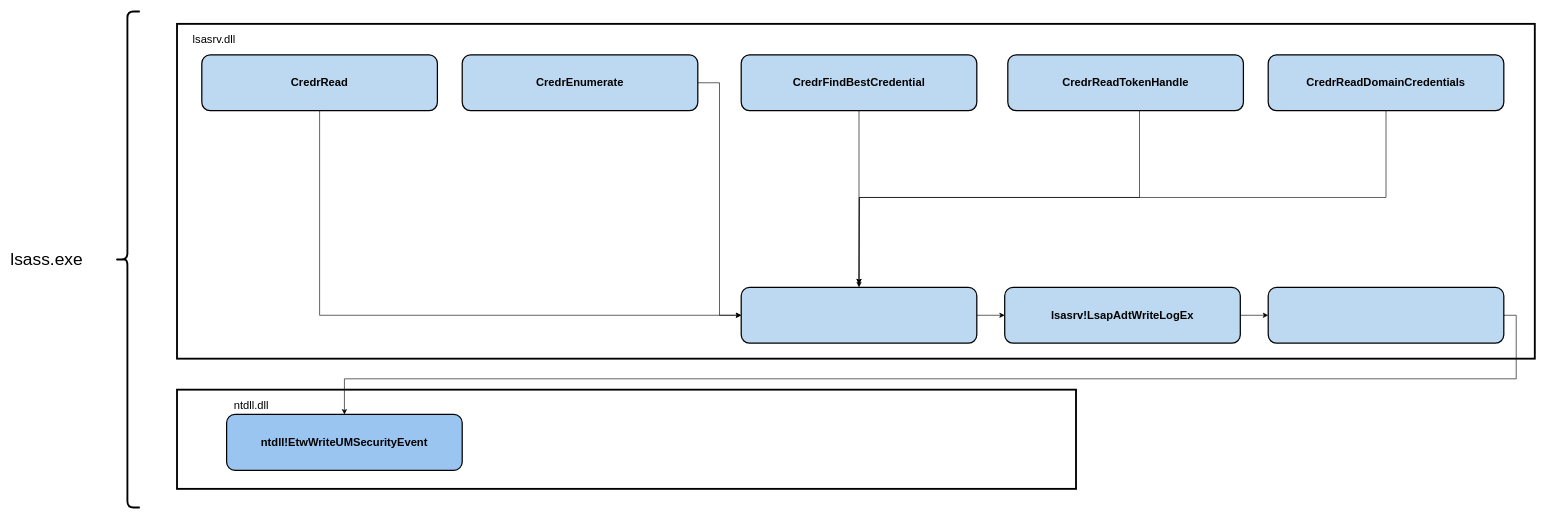
Some shapes in this 1546 by 519 pixel diagram are drawn without their labels. The shapes that lost their labels are listed below. From the top down, each one's centre as x and y in pixels, then its label:
pixel 858 314: lsasrv!LsapAdtAuditCredentialsRead
pixel 1385 314: lsasrv!AdtpWriteToEtw
